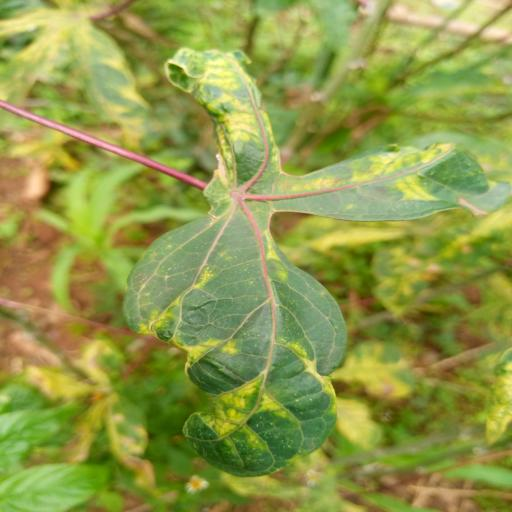Cassava_Mosaic: (114, 41, 512, 476)
